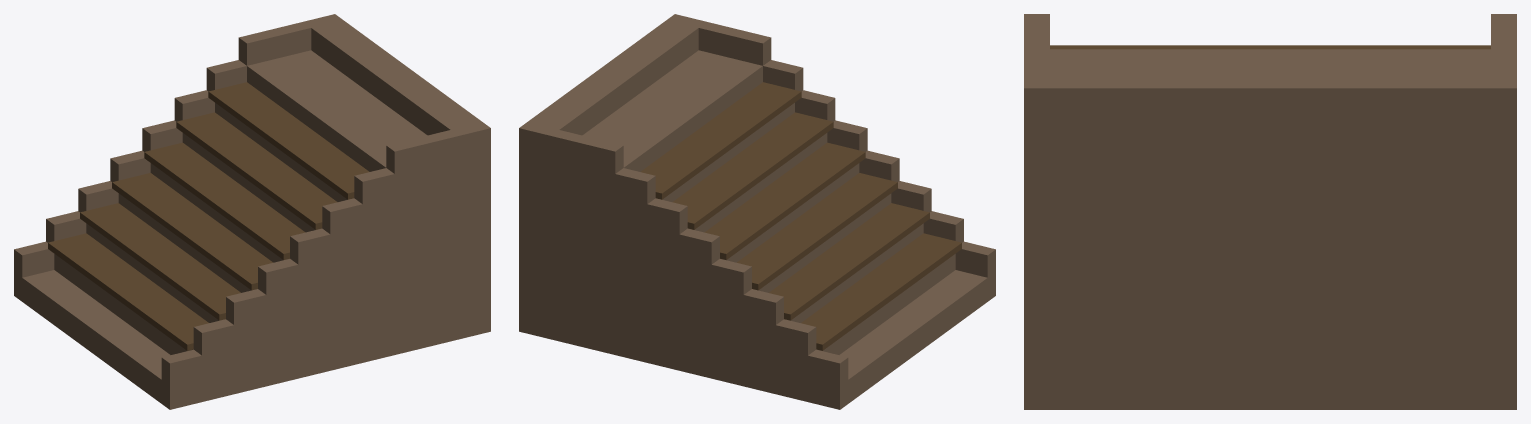
File: tribuneSmall.fbx
3 views of the same model, side by side, from view 1: azimuth 30°, elevation 25°; view 2: azimuth 150°, elevation 25°; view 3: azimuth 270°, elevation 25° (orthographic). The views are drawn at different scales.
Parts seen in each view (by area): view 1: Cube.004; view 2: Cube.004; view 3: Cube.004.
Boxes of the visible parts, box(x1,y1,x2,y2) form: Cube.004: box(14, 14, 490, 409); Cube.004: box(519, 14, 995, 409); Cube.004: box(1024, 14, 1516, 409).
Size of the model in its own units: 1475 by 894 by 1241.
